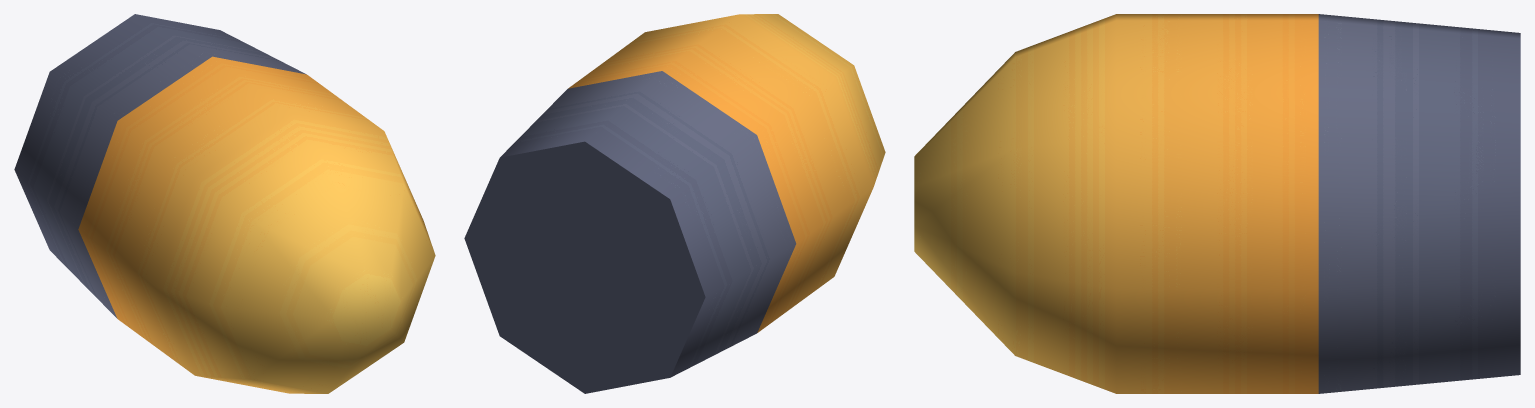
The model's file is weapon-ammo-bullet.glb.
The picture shows the model from 3 angles, left to right: view 1: azimuth 30°, elevation 25°; view 2: azimuth 150°, elevation 25°; view 3: azimuth 270°, elevation 25°; orthographic projection. The views are drawn at different scales.
Parts seen in each view (by area): view 1: weapon-ammo-bullet; view 2: weapon-ammo-bullet; view 3: weapon-ammo-bullet.
Part boxes in pixels (left/top/right/bottom): weapon-ammo-bullet: left=14, top=14, right=435, bottom=393; weapon-ammo-bullet: left=464, top=14, right=885, bottom=393; weapon-ammo-bullet: left=914, top=14, right=1520, bottom=393.
Size of the model in its own units: 0.6 by 0.6 by 0.9.
Materials: 1 (1 with a texture image).
